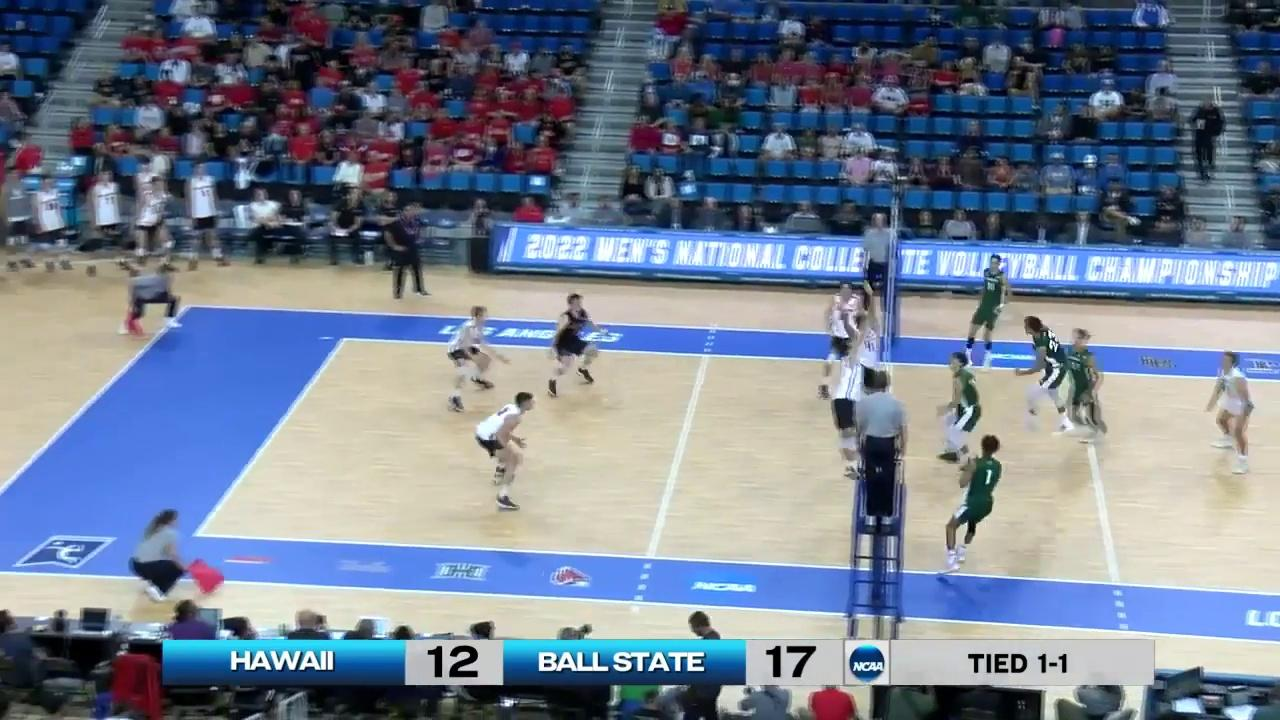player: (939, 435, 1001, 579), (471, 391, 531, 508), (812, 278, 869, 397), (444, 307, 506, 410), (1017, 316, 1071, 433), (1207, 353, 1257, 477), (540, 295, 602, 393), (1059, 331, 1107, 439), (828, 339, 864, 481), (961, 255, 1005, 371), (937, 353, 981, 465), (849, 309, 884, 442)
refree: (129, 506, 226, 601), (858, 371, 906, 526), (124, 266, 185, 335), (864, 213, 899, 312)
